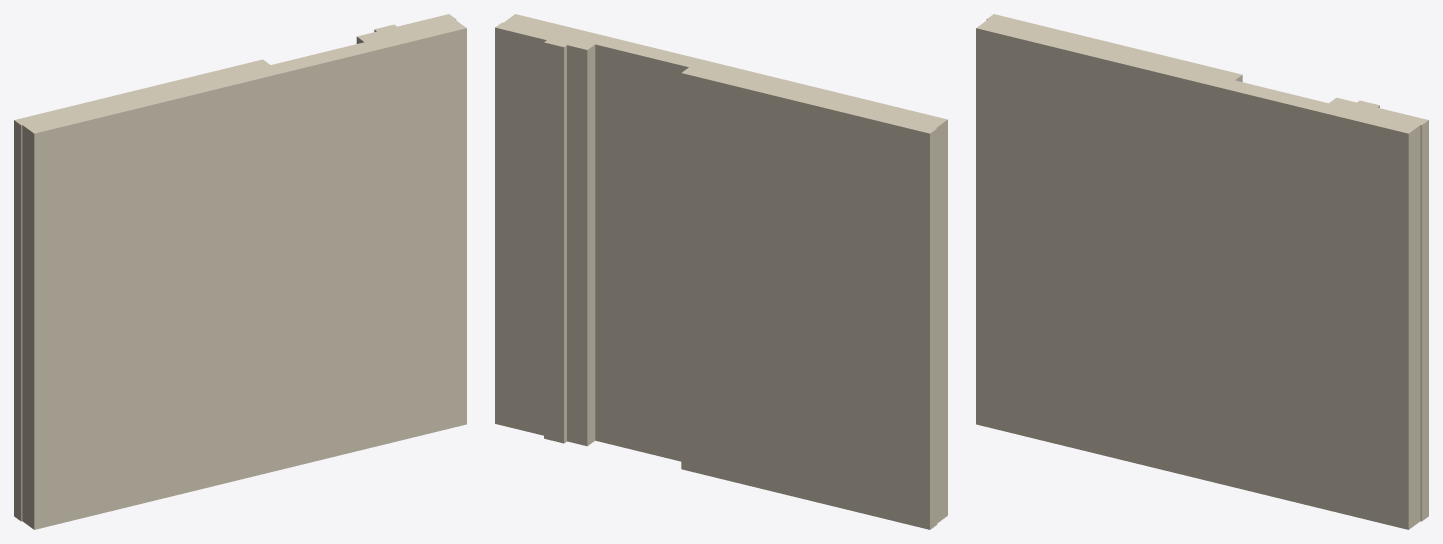
3 renders of one model, left to right at view 1: azimuth 30°, elevation 25°; view 2: azimuth 150°, elevation 25°; view 3: azimuth 330°, elevation 25°, orthographic.
Parts seen in each view (by area): view 1: B-FF-WALL-016; view 2: B-FF-WALL-016; view 3: B-FF-WALL-016.
Part boxes in pixels (x1,y1,x2,y2): B-FF-WALL-016: (14, 14, 466, 529); B-FF-WALL-016: (495, 14, 947, 529); B-FF-WALL-016: (976, 14, 1428, 529).
Size of the model in its own units: 2.78 by 2.42 by 0.2428.
